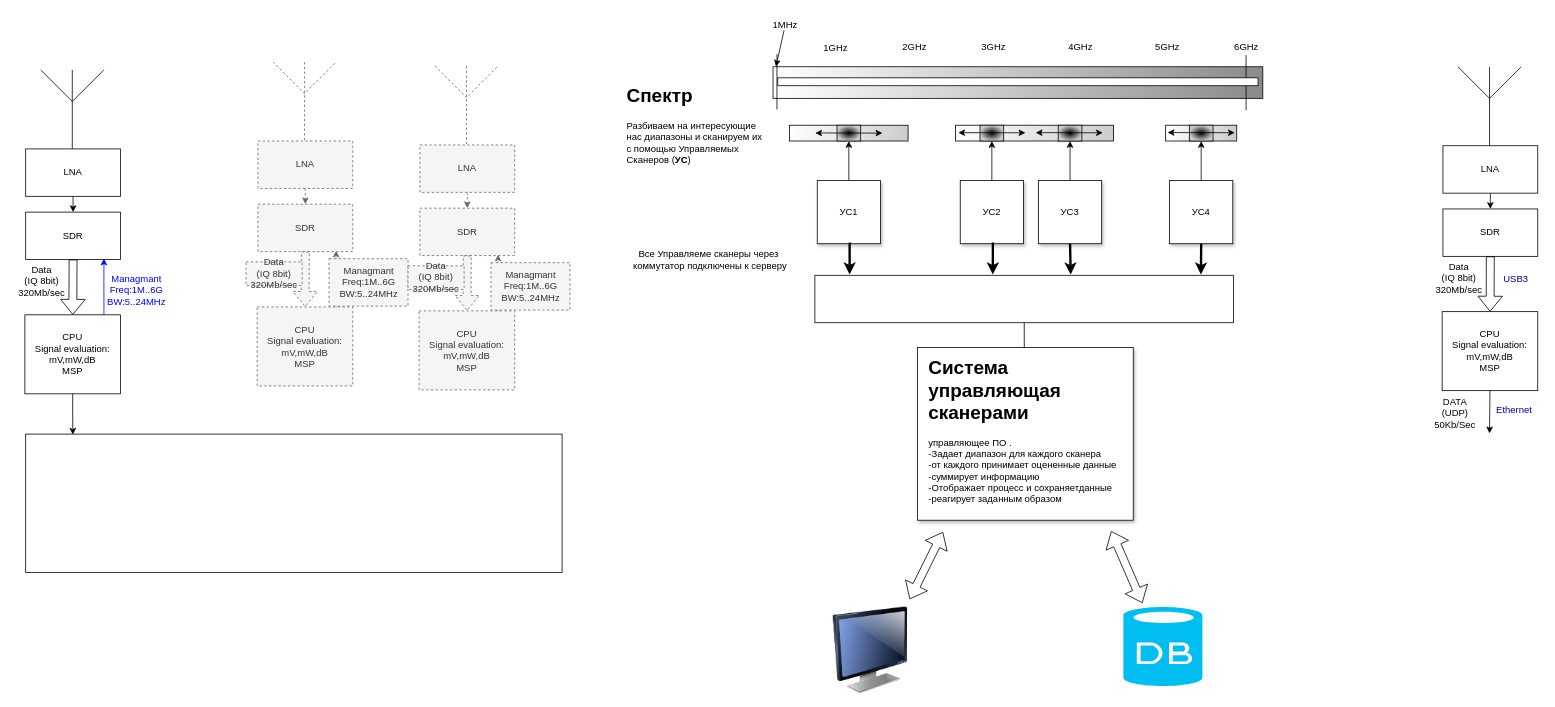
This 1555x707 diagram has some shape labels left out. The centre of each missing label's shape, as x and y in pixels:
SERVER: point (293, 502)
коммутатор: point (1024, 299)
